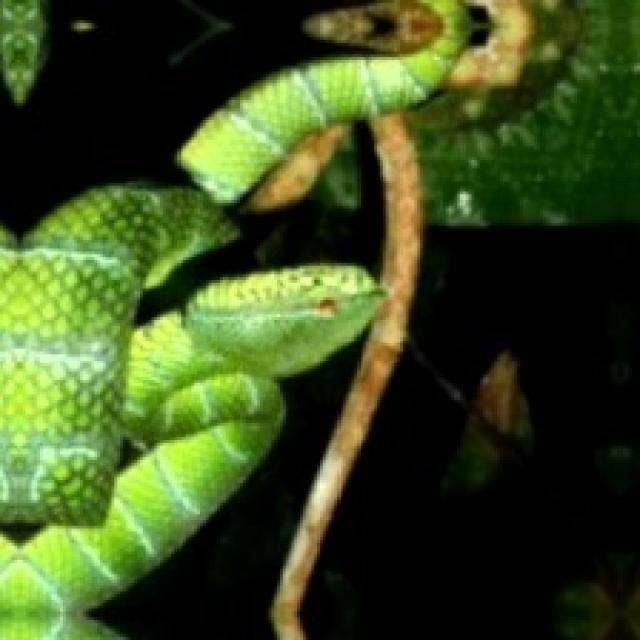north ph temple pitviper: (0, 0, 529, 637)
